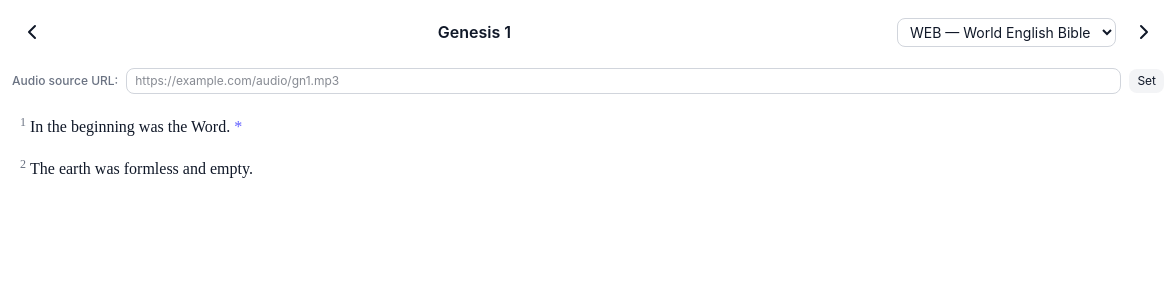
Reader › renders chapter verses and allows verse selection
The width and height of the screenshot is (1176, 289).
Check: the button "Genesis 1" is shown, box [60,12,889,52]
Check: the text "1" is shown, box [20,115,26,129]
Step 1. Click the text "The earth was formless and empty." → (136, 167), box [20,157,253,177]
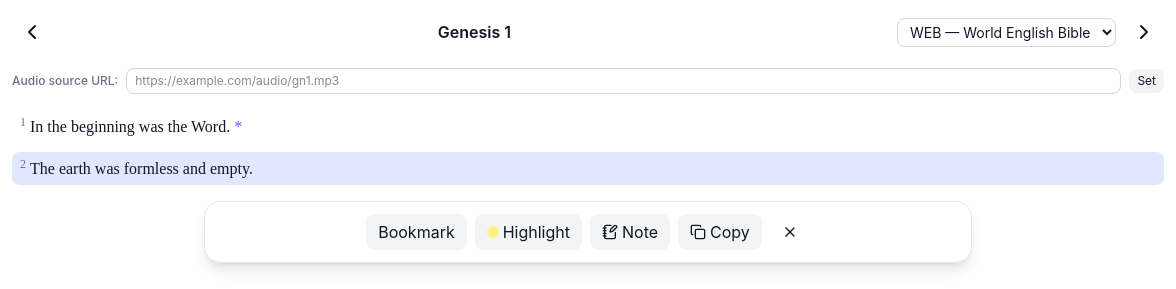
Check: the button "Bookmark" is shown, box [366,214,467,250]
Check: the button "Copy" is shown, box [678,214,762,250]
